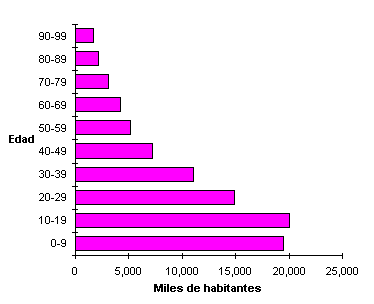canvas: (78, 22, 340, 253)
x-axis: (71, 253, 346, 259)
x-labels: (70, 265, 360, 277)
x-title: (152, 281, 264, 296)
y-axis: (71, 21, 79, 260)
y-labels: (37, 27, 69, 250)
y-title: (5, 132, 36, 146)
